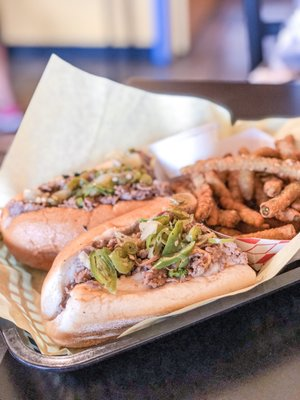curry: (0, 47, 299, 394)
sandwich: (39, 199, 259, 349)
